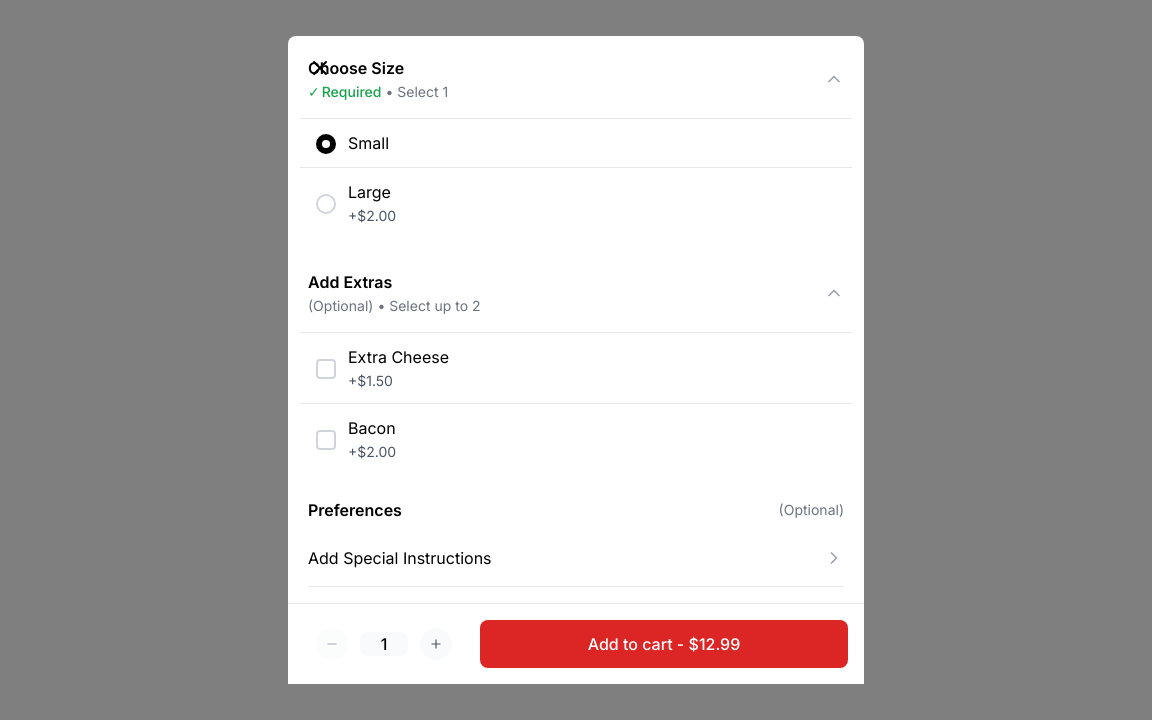
it: MenuItemDialog › Multi-select modifications › should update total price when multiple extras are selected
The width and height of the screenshot is (1152, 720).
(page scrolled)
Click the text "Extra Cheese". click: [398, 357]
box: [348, 347, 449, 367]
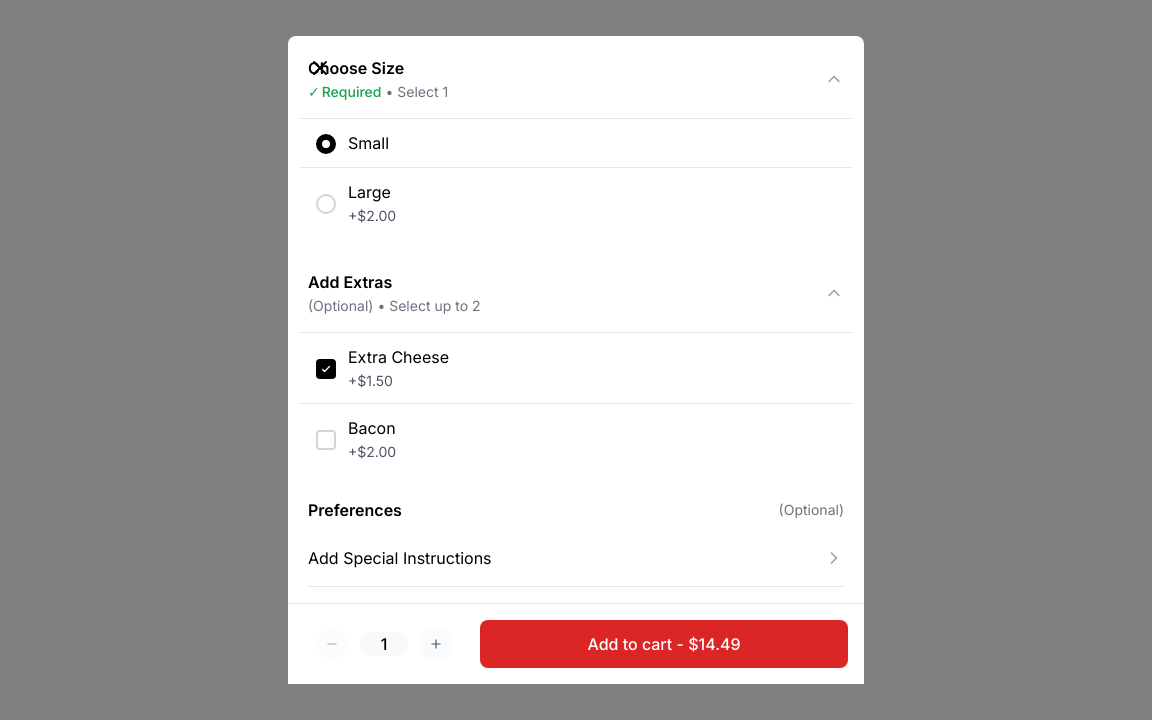
Click the text "Bacon". click: [372, 428]
box: [348, 418, 396, 438]
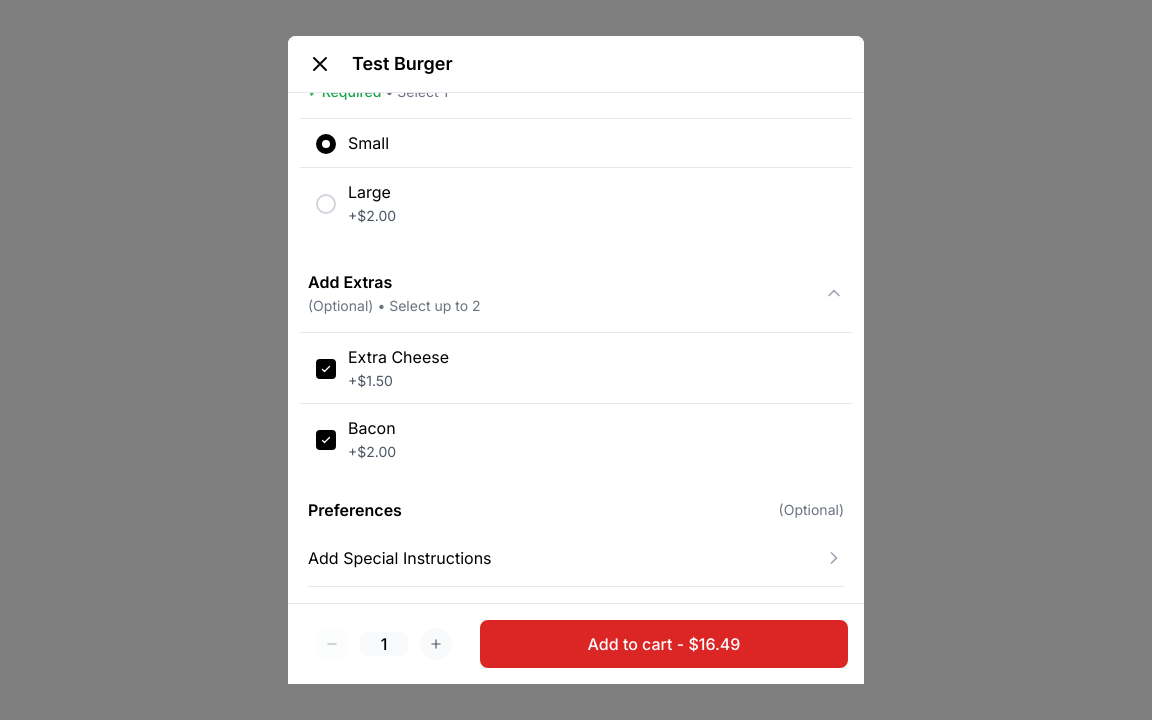
Result: the button "Add to cart - $16.49" is shown at [480, 620, 848, 668]
